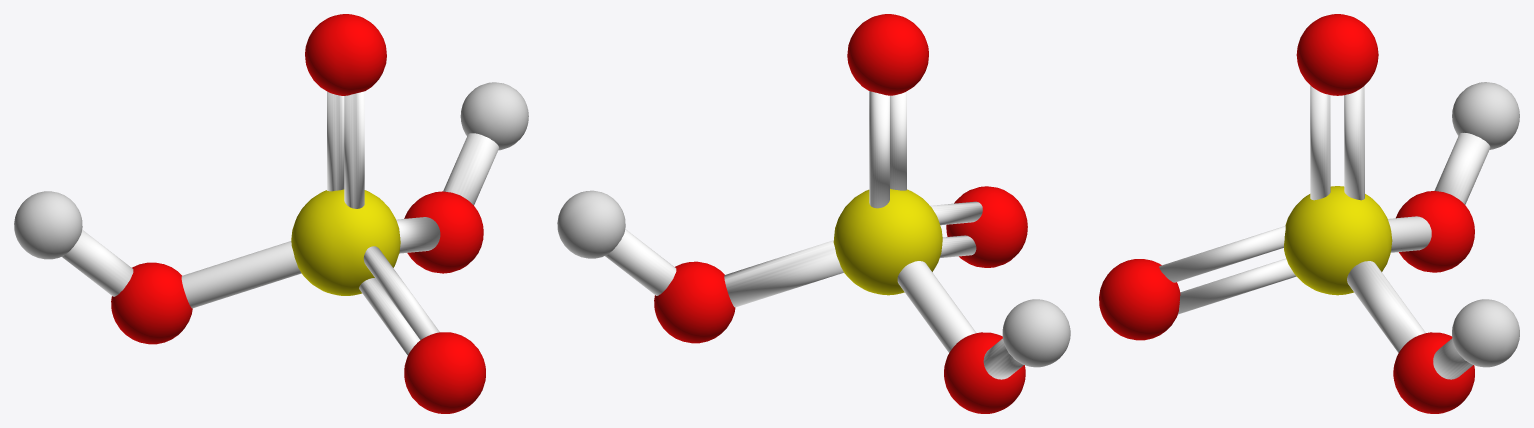
3 views of the same model, side by side, from view 1: azimuth 30°, elevation 25°; view 2: azimuth 150°, elevation 25°; view 3: azimuth 270°, elevation 25° (orthographic).
Visible parts, largest first — view 1: s-o-h.003; view 2: s-o-h.003; view 3: s-o-h.003.
Boxes of the visible parts, x1=… form: s-o-h.003: x1=14, y1=14, x2=528, y2=413; s-o-h.003: x1=557, y1=14, x2=1070, y2=413; s-o-h.003: x1=1099, y1=14, x2=1519, y2=413.
Bounding box in the file's own units: 852 × 520 × 616.
